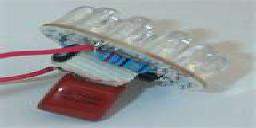LED: (59, 3, 235, 85)
